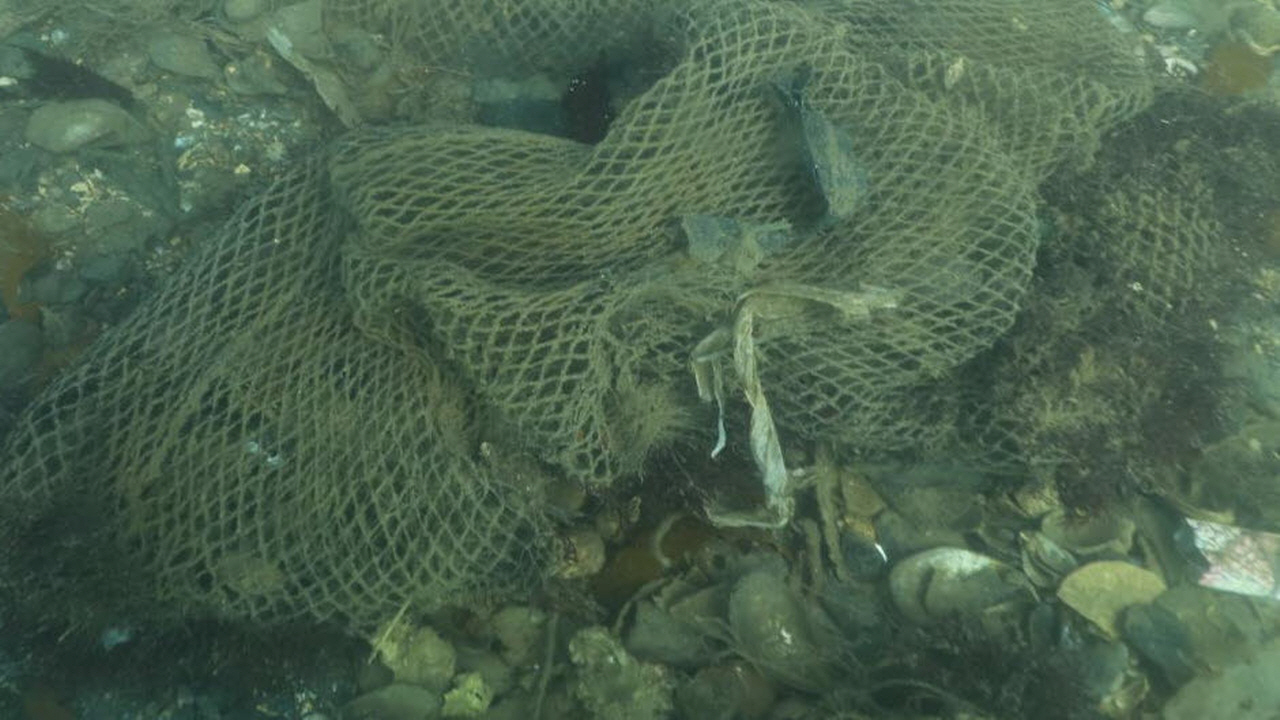fish net: (0, 0, 1220, 622)
